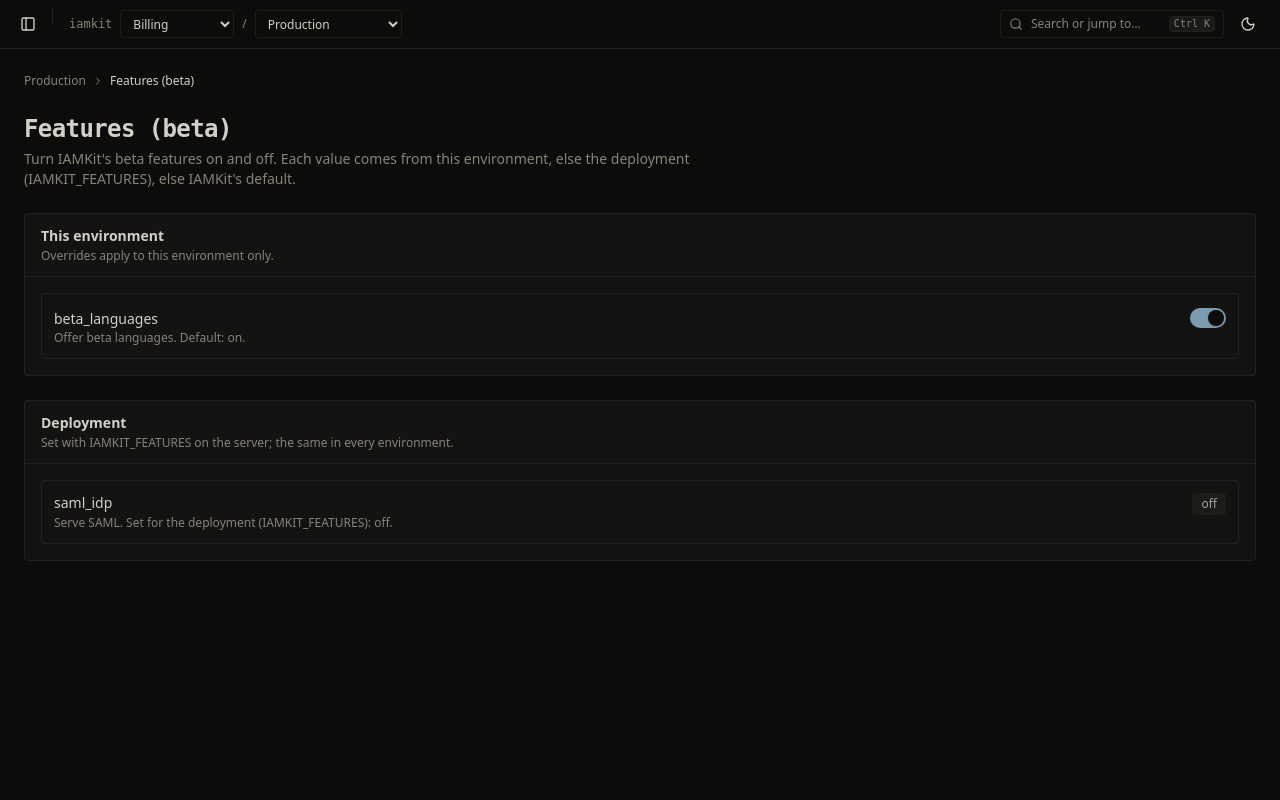
it: overrides and resets an environment feature
The image size is (1280, 800).
Expected: the text "Offer beta languages. Default: on." is shown, [54,330,245,346]
Expected: the text "Serve SAML. Set for the deployment (IAMKIT_FEATURES): off." is shown, [54,515,393,531]
Click the switch labelled "beta_languages" at (106, 318), box [54,309,158,328]
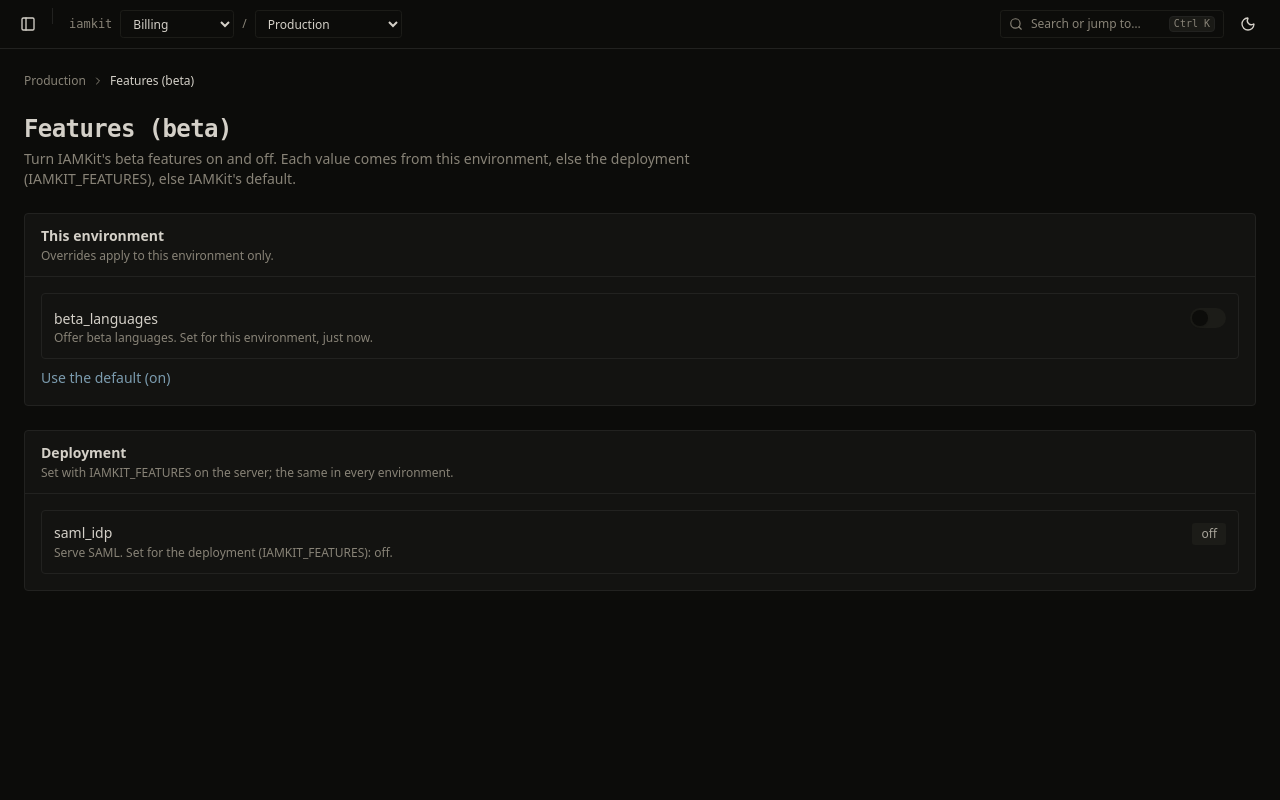
Expected: the text "Offer beta languages. Set for this environment, just now." is shown, [54,330,373,346]
Click the button "Use the default (on)" at (106, 378), box [41,368,170,388]
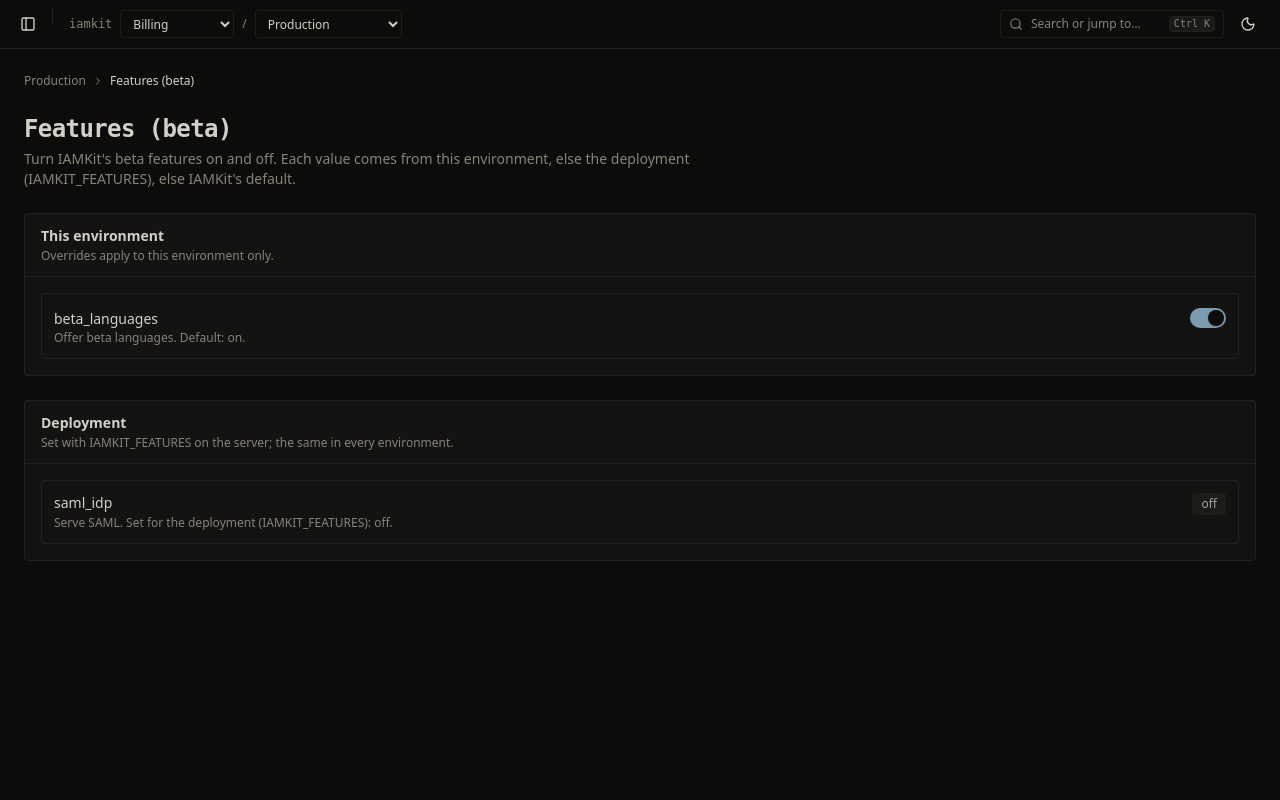
Expected: the switch labelled "beta_languages" is checked, [54,309,158,328]
Expected: the text "Offer beta languages. Default: on." is shown, [54,330,245,346]
